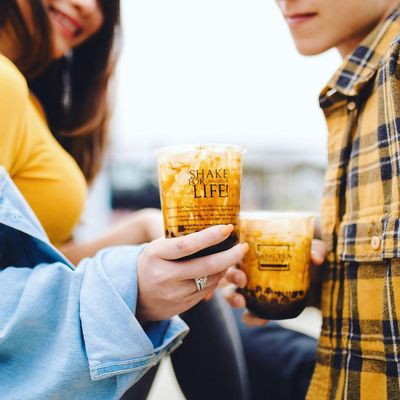pizza: (154, 143, 245, 247)
